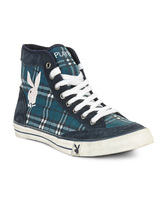shoes: (10, 40, 156, 158)
